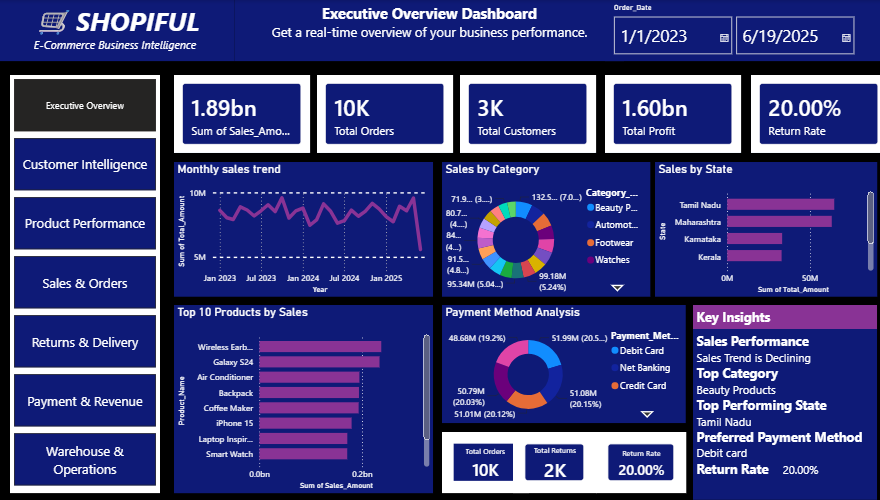

The dashboard page shown, as its layout file describes it:
{"tool":"powerbi","page":{"name":"Executive Overview","canvas":[1280,720],"ordinal":0},"visuals":[{"type":"shape","box":[836.6,0,443.5,87.8],"z":0},{"type":"shape","box":[253.4,108,195.8,112.3],"z":1000},{"type":"shape","box":[459.4,108,195.8,112.3],"z":2000},{"type":"shape","box":[665.3,108,195.8,112.3],"z":3000},{"type":"shape","box":[874.1,108,195.8,112.3],"z":4000},{"type":"shape","box":[1084.3,108,195.8,112.3],"z":5000},{"type":"shape","box":[253.4,473.8,373,224.6],"z":6000},{"type":"cardVisual","fields":{"Data":["Sum(cartnova order_items.Sales_Amount)"]},"box":[253.4,108,195.8,112.3],"z":7000},{"type":"cardVisual","fields":{"Data":["cartnova orders.Total Orders","cartnova orders.Total Orders"]},"box":[459.4,108,195.8,112.3],"z":8000},{"type":"cardVisual","fields":{"Data":["cartnova customers.Total Customers"]},"box":[665.3,108,195.8,112.3],"z":9000},{"type":"cardVisual","fields":{"Data":["cartnova order_items.Total Profit"]},"box":[874.1,108,195.8,112.3],"z":10000},{"type":"cardVisual","fields":{"Data":["cartnova returns.Return Rate"]},"box":[1084.3,108,195.8,112.3],"z":11000},{"type":"donutChart","title":"Sales by Category","fields":{"Category":["cartnova categories.Category_Name"],"Y":["Sum(cartnova order_items.Sales_Amount)"]},"box":[639.4,233.3,299.5,194.4],"z":12000},{"type":"clusteredBarChart","title":"Sales by State","fields":{"Category":["cartnova customers.State"],"Y":["Sum(cartnova orders.Total_Amount)"]},"box":[946.1,233.3,319.7,194.4],"z":13000},{"type":"clusteredBarChart","title":"Top 10 Products by Sales","fields":{"Category":["cartnova products.Product_Name"],"Y":["Sum(cartnova order_items.Sales_Amount)"]},"box":[253.4,439.2,373,270.7],"z":14000},{"type":"donutChart","title":"Payment Method Analysis","fields":{"Category":["cartnova payment.Payment_Method"],"Y":["Sum(cartnova payment.Payment_Amount)"]},"box":[639.4,439.2,351.4,169.9],"z":15000},{"type":"textbox","box":[1000.8,439.2,265,34.6],"z":16000},{"type":"textbox","box":[1000.8,473.8,265,246.2],"z":17000},{"type":"cardVisual","fields":{"Data":["cartnova orders.Total Orders"]},"box":[639.4,622.1,123.8,87.8],"z":18000},{"type":"cardVisual","fields":{"Data":["cartnova returns.Total Returns"]},"box":[741.6,622.1,119.5,87.8],"z":19000},{"type":"cardVisual","fields":{"Data":["cartnova returns.Return Rate"]},"box":[861.1,622.1,129.6,87.8],"z":20000},{"type":"textbox","box":[341.3,0,560.2,87.8],"z":21000},{"type":"textbox","box":[0,0,341.3,87.8],"z":22000},{"type":"slicer","fields":{"Values":["cartnova orders.Order_Date"]},"box":[874.1,0,406.1,87.8],"z":23000},{"type":"lineChart","title":"Monthly sales trend","fields":{"Y":["Sum(cartnova orders.Total_Amount)"],"Category":["cartnova orders.Order_Date.Variation.Date Hierarchy.Year","cartnova orders.Order_Date.Variation.Date Hierarchy.Month"]},"box":[253.4,233.3,373,194.4],"z":24000},{"type":"pageNavigator","box":[17.3,108,216,601.9],"z":25000}]}

Visuals, with their boxes in screenshot pixels (x1, y1, x2, y2), scaled from the page's 1280x720 canvas onto the 880x500 screenshot:
shape: rect(575, 0, 879, 61)
shape: rect(174, 75, 309, 153)
shape: rect(316, 75, 450, 153)
shape: rect(457, 75, 592, 153)
shape: rect(601, 75, 736, 153)
shape: rect(745, 75, 879, 153)
shape: rect(174, 329, 431, 485)
cardVisual - Sum(cartnova order_items.Sales_Amount): rect(174, 75, 309, 153)
cardVisual - cartnova orders.Total Orders x cartnova orders.Total Orders: rect(316, 75, 450, 153)
cardVisual - cartnova customers.Total Customers: rect(457, 75, 592, 153)
cardVisual - cartnova order_items.Total Profit: rect(601, 75, 736, 153)
cardVisual - cartnova returns.Return Rate: rect(745, 75, 879, 153)
"Sales by Category" donutChart: rect(440, 162, 645, 297)
"Sales by State" clusteredBarChart: rect(650, 162, 870, 297)
"Top 10 Products by Sales" clusteredBarChart: rect(174, 305, 431, 493)
"Payment Method Analysis" donutChart: rect(440, 305, 681, 423)
textbox: rect(688, 305, 870, 329)
textbox: rect(688, 329, 870, 499)
cardVisual - cartnova orders.Total Orders: rect(440, 432, 525, 493)
cardVisual - cartnova returns.Total Returns: rect(510, 432, 592, 493)
cardVisual - cartnova returns.Return Rate: rect(592, 432, 681, 493)
textbox: rect(235, 0, 620, 61)
textbox: rect(0, 0, 235, 61)
slicer - cartnova orders.Order_Date: rect(601, 0, 879, 61)
"Monthly sales trend" lineChart: rect(174, 162, 431, 297)
pageNavigator: rect(12, 75, 160, 493)
